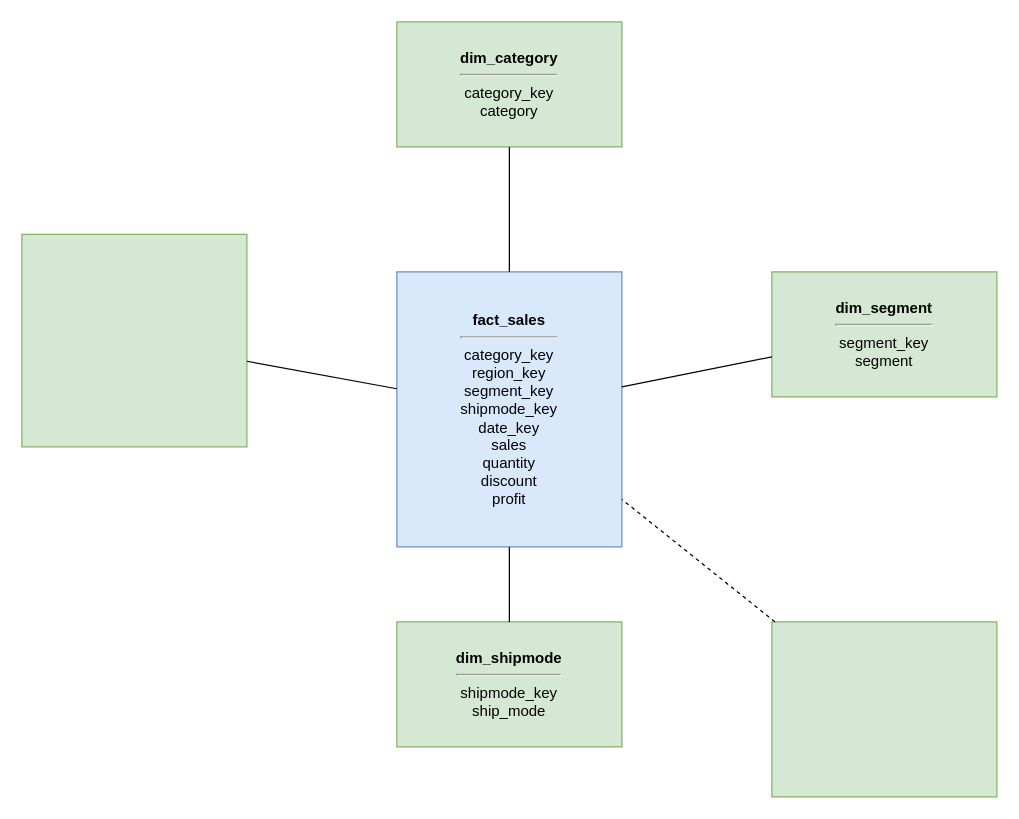
Image size: 1019x819. Some labels were removed from this diagram. The centre of each missing label's shape, as x and y in pixels:
dim_date date_key year quarter month month_name: point 884,709
dim_region region_key country region state city postal_code: point 134,340
